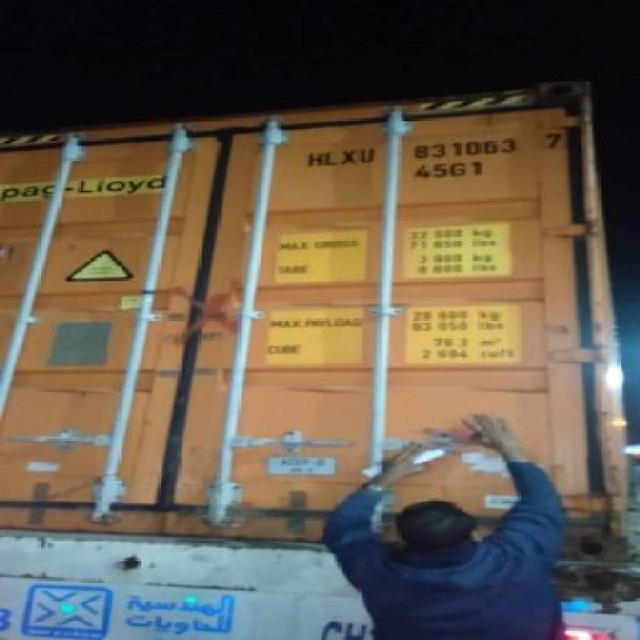ISO: (412, 156, 484, 181)
container_number: (306, 124, 568, 168)
